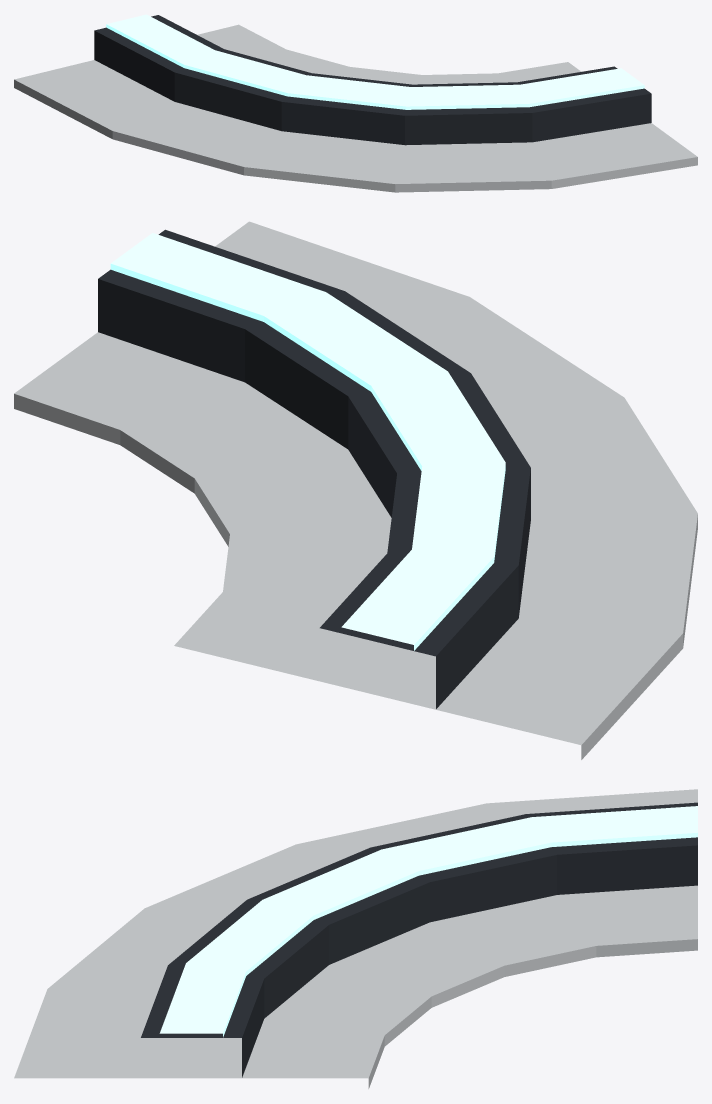
File: road_rail_x_curve_lod1.glb
3 views of the same model, one above another, from view 1: azimuth 30°, elevation 25°; view 2: azimuth 150°, elevation 25°; view 3: azimuth 270°, elevation 25° (orthographic). The views are drawn at different scales.
Parts seen in each view (by area): view 1: body; view 2: body; view 3: body.
Boxes of the visible parts, left/top/right/bottom form: body: left=14, top=14, right=697, bottom=192; body: left=14, top=221, right=697, bottom=759; body: left=14, top=789, right=697, bottom=1088.
Bounding box in the file's own units: 5.4 × 0.49 × 5.4.
